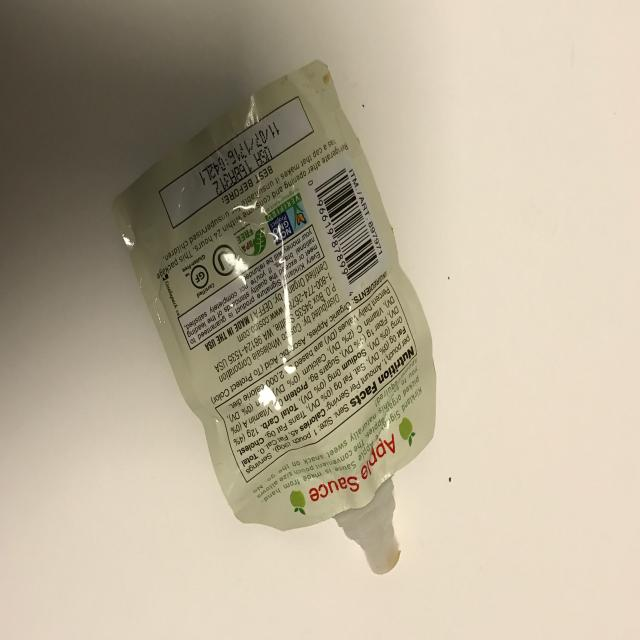trash: (111, 58, 437, 533)
